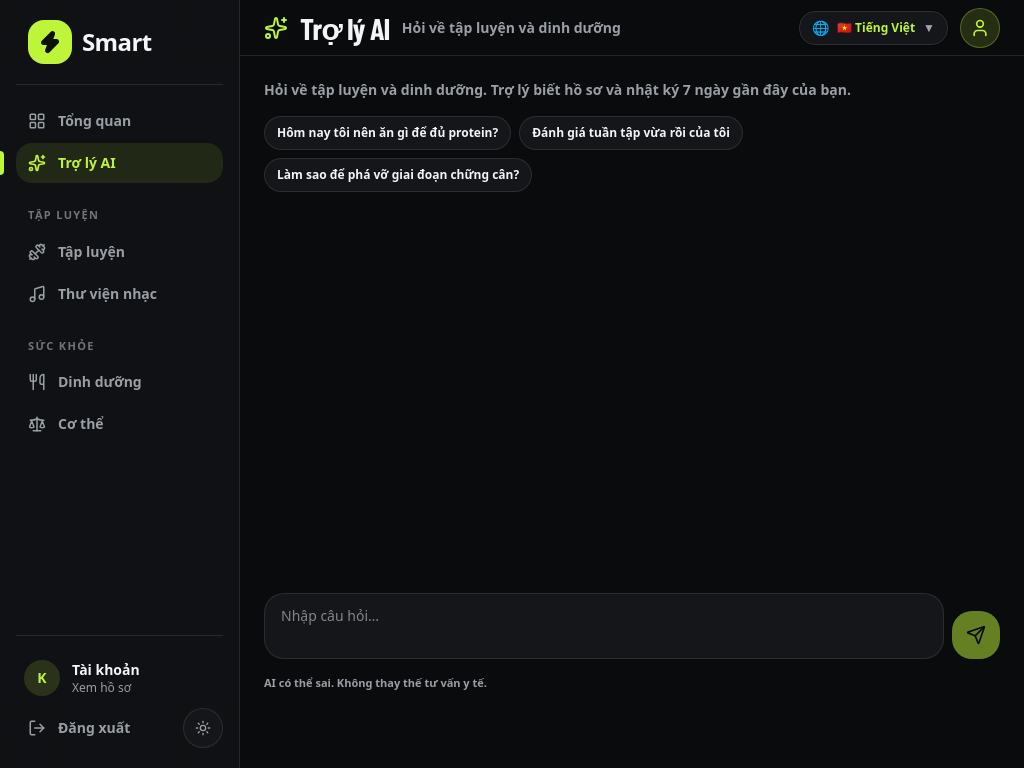
Test: Coach page › shows the error and keeps the typed message on failure
Type "hello coach" into the text box named "Tin nhắn".
click(604, 626); type("hello coach")  # box [264,593,944,659]
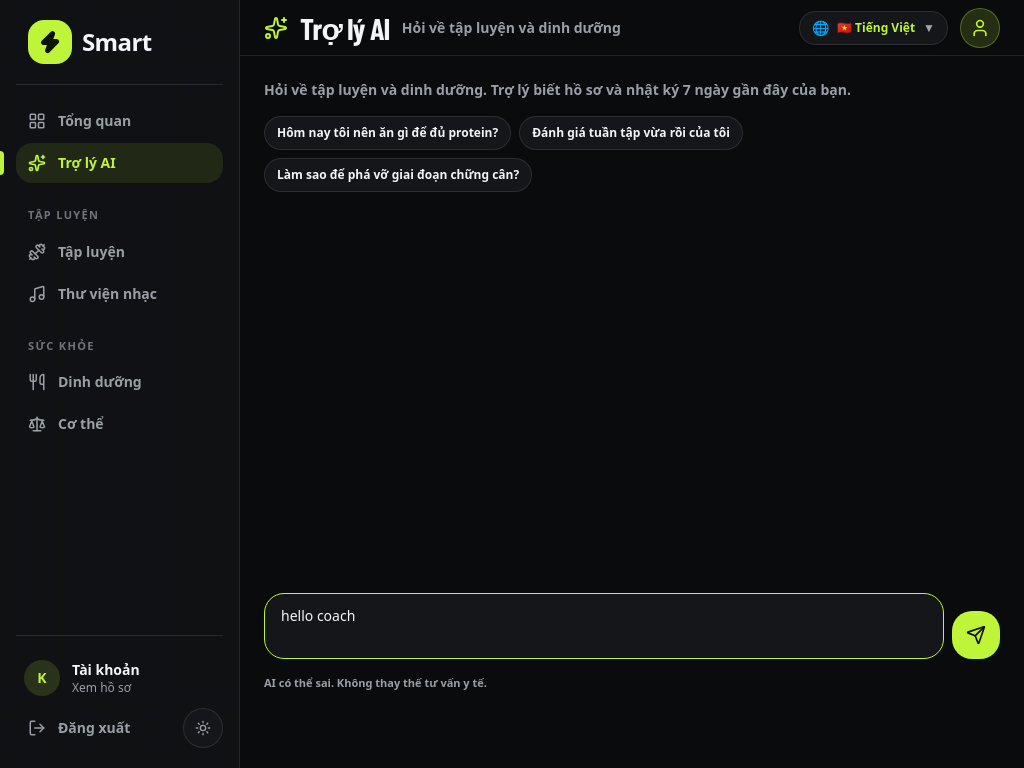
Click the button named "Gửi".
click(976, 635)  # box [952,611,1000,659]
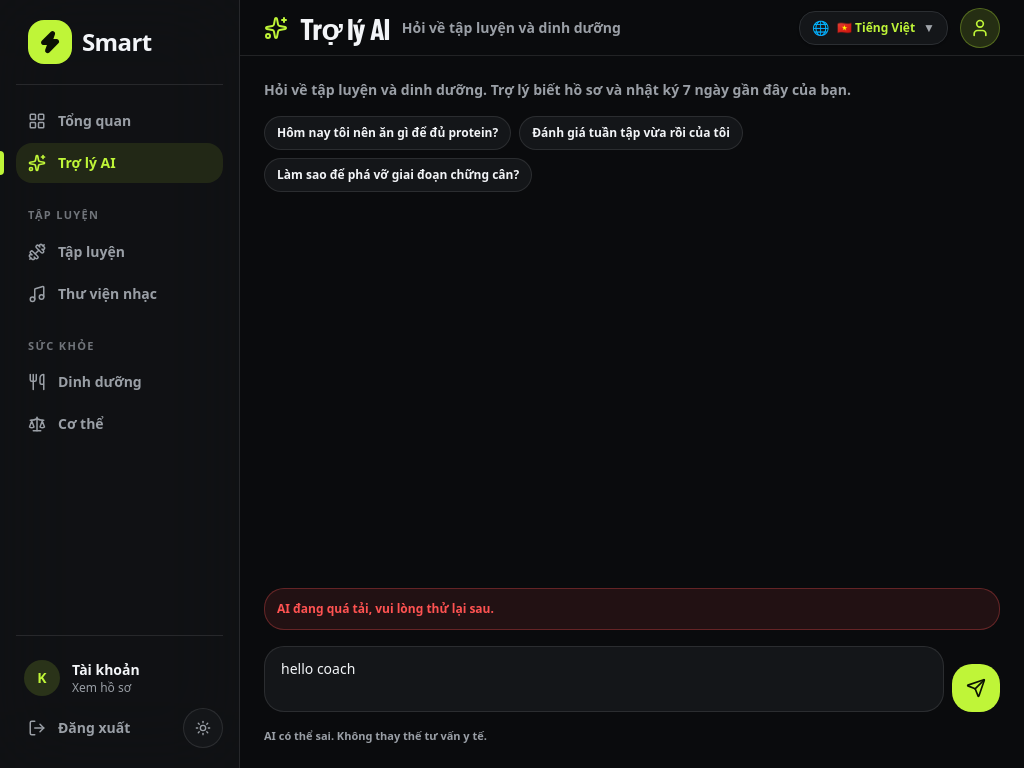
Now the message shows "AI đang quá tải", box [277,600,494,616]
